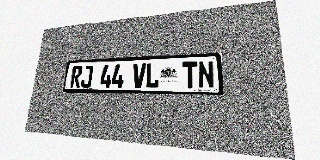4: (111, 64, 125, 88), (99, 65, 113, 88)
J: (80, 65, 93, 88)
L: (145, 63, 160, 88)
N: (198, 61, 214, 89)
R: (70, 66, 83, 88)
T: (182, 61, 198, 89)
V: (132, 63, 146, 88)
